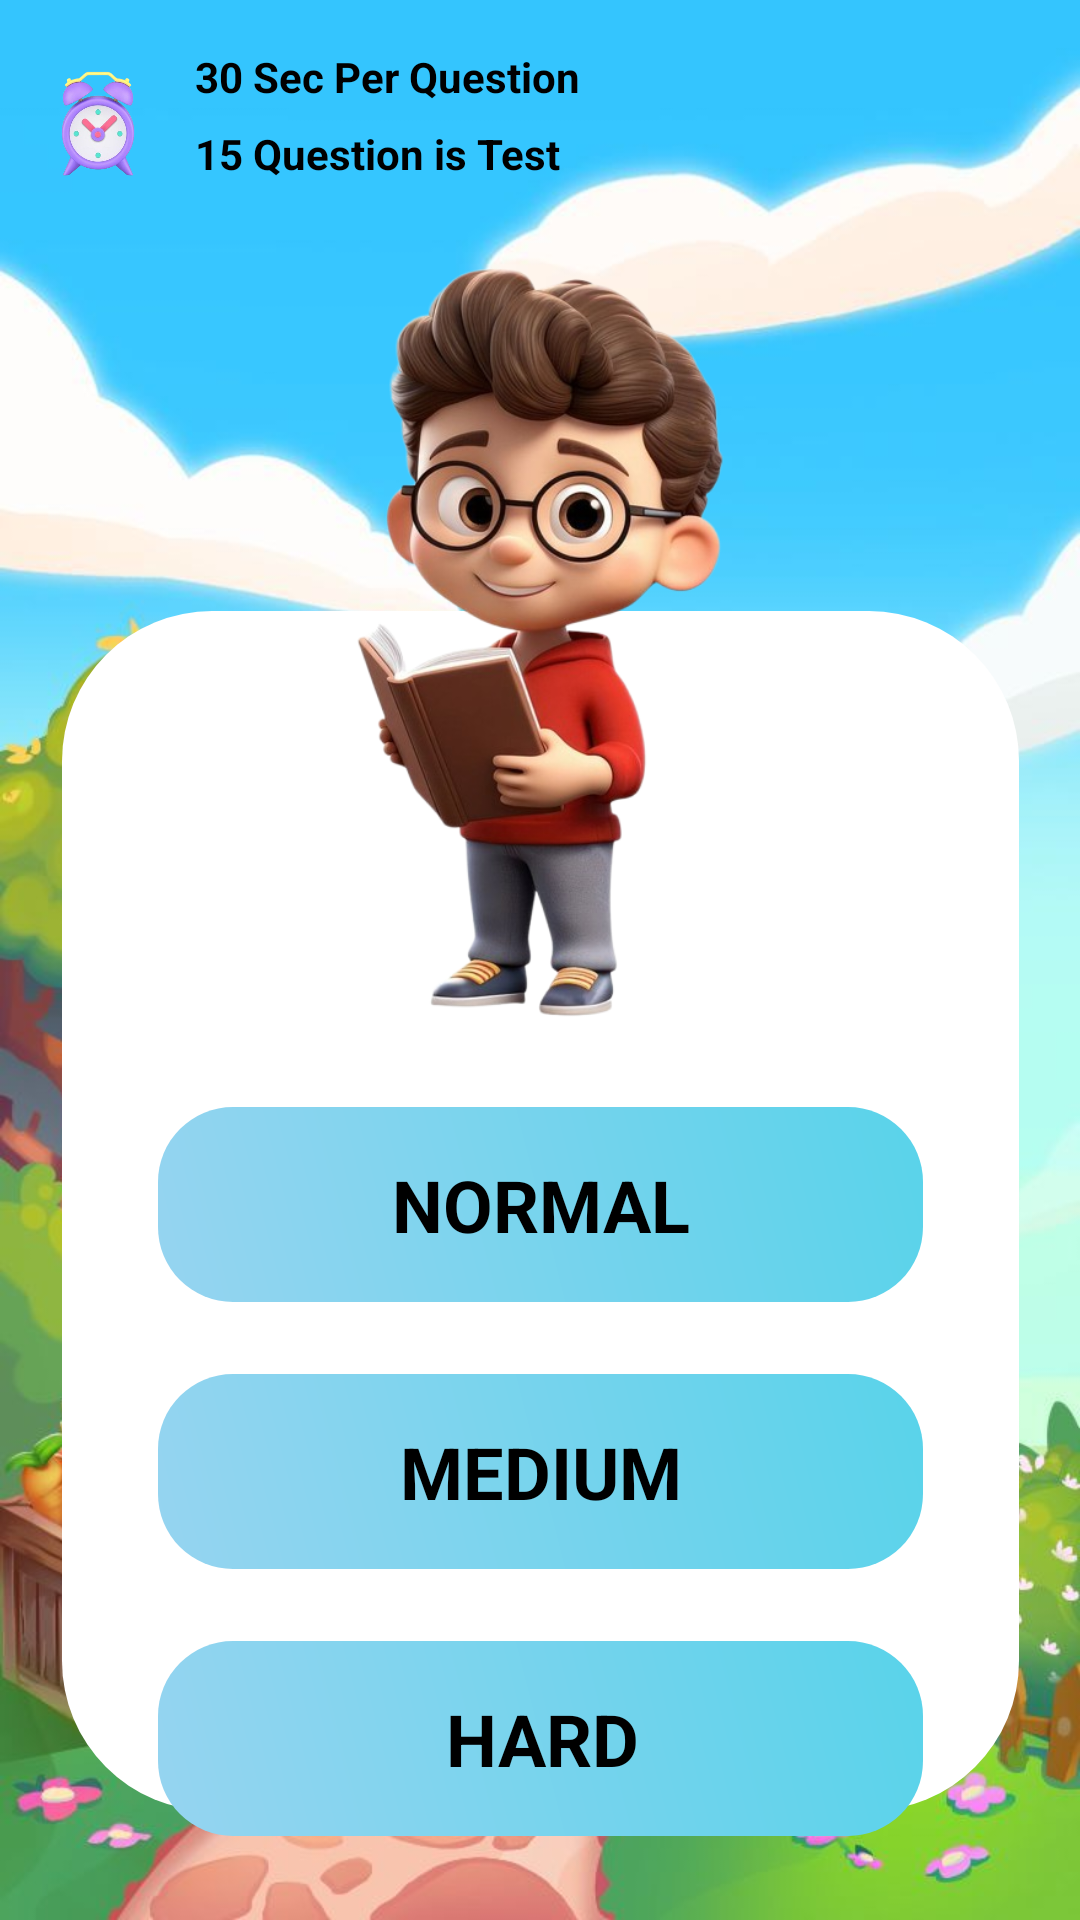

Icons on this 1080px x 1920px Android screen, each with its box as (x1, y1, x2, y2):
analog: (62, 72, 134, 176)
